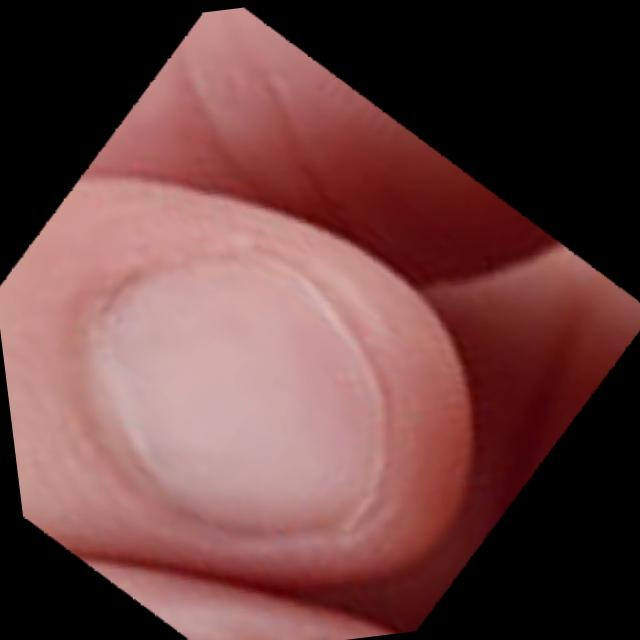Nail: (99, 251, 382, 545)
